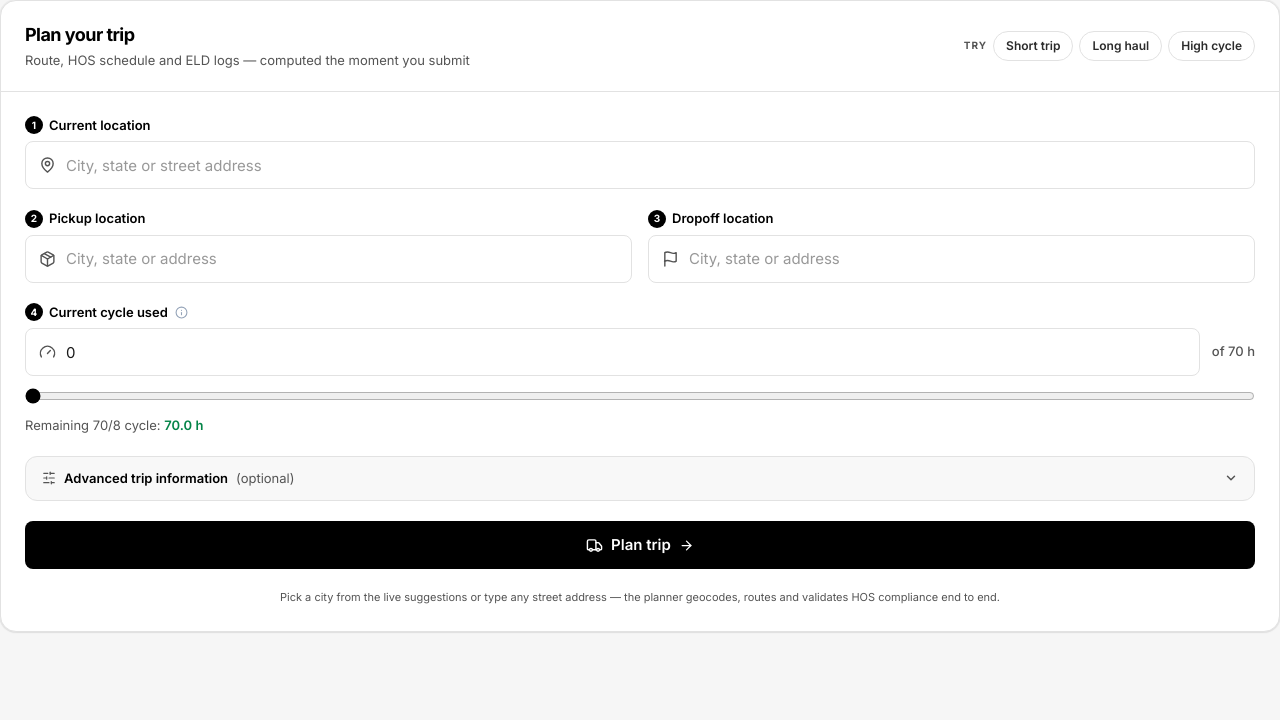
Test: TripPlannerForm — user-visible behavior › blocks submission when locations are missing
Click the button "Plan trip" at (640, 545), box x1=25 y1=521 x2=1255 y2=569
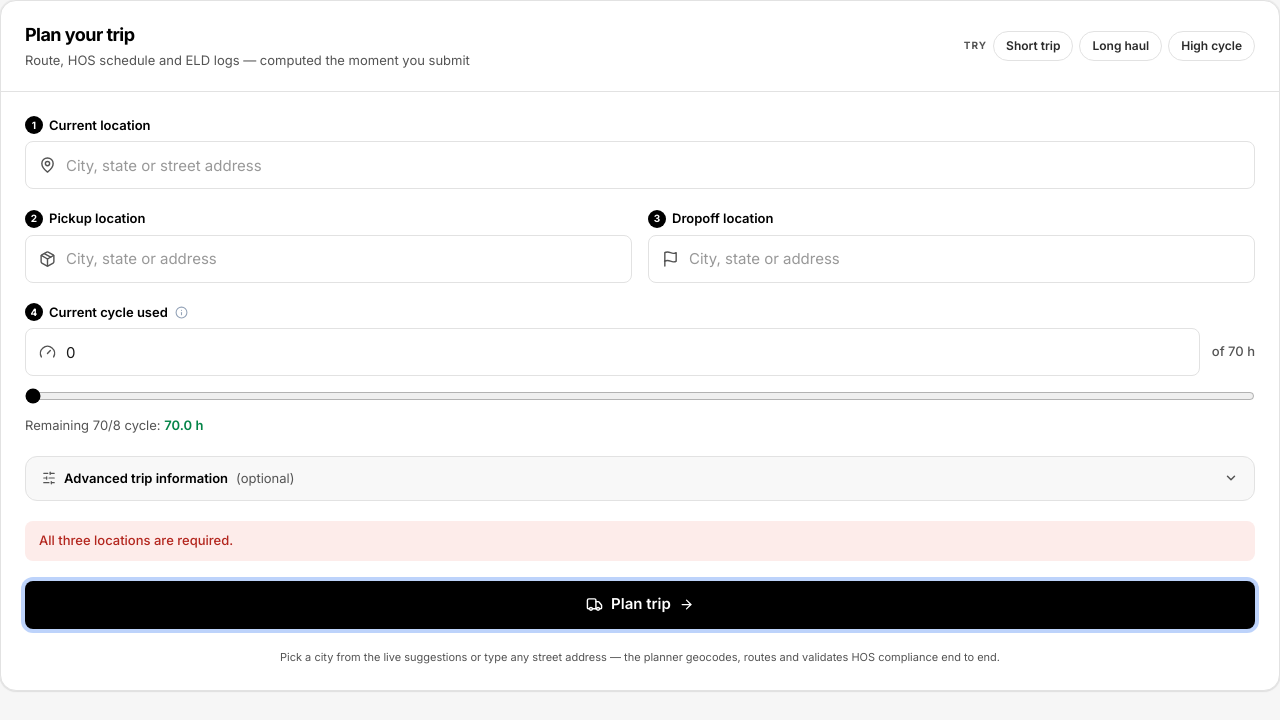
Expected: the message reads "All three locations are required.", x1=39 y1=532 x2=233 y2=548
